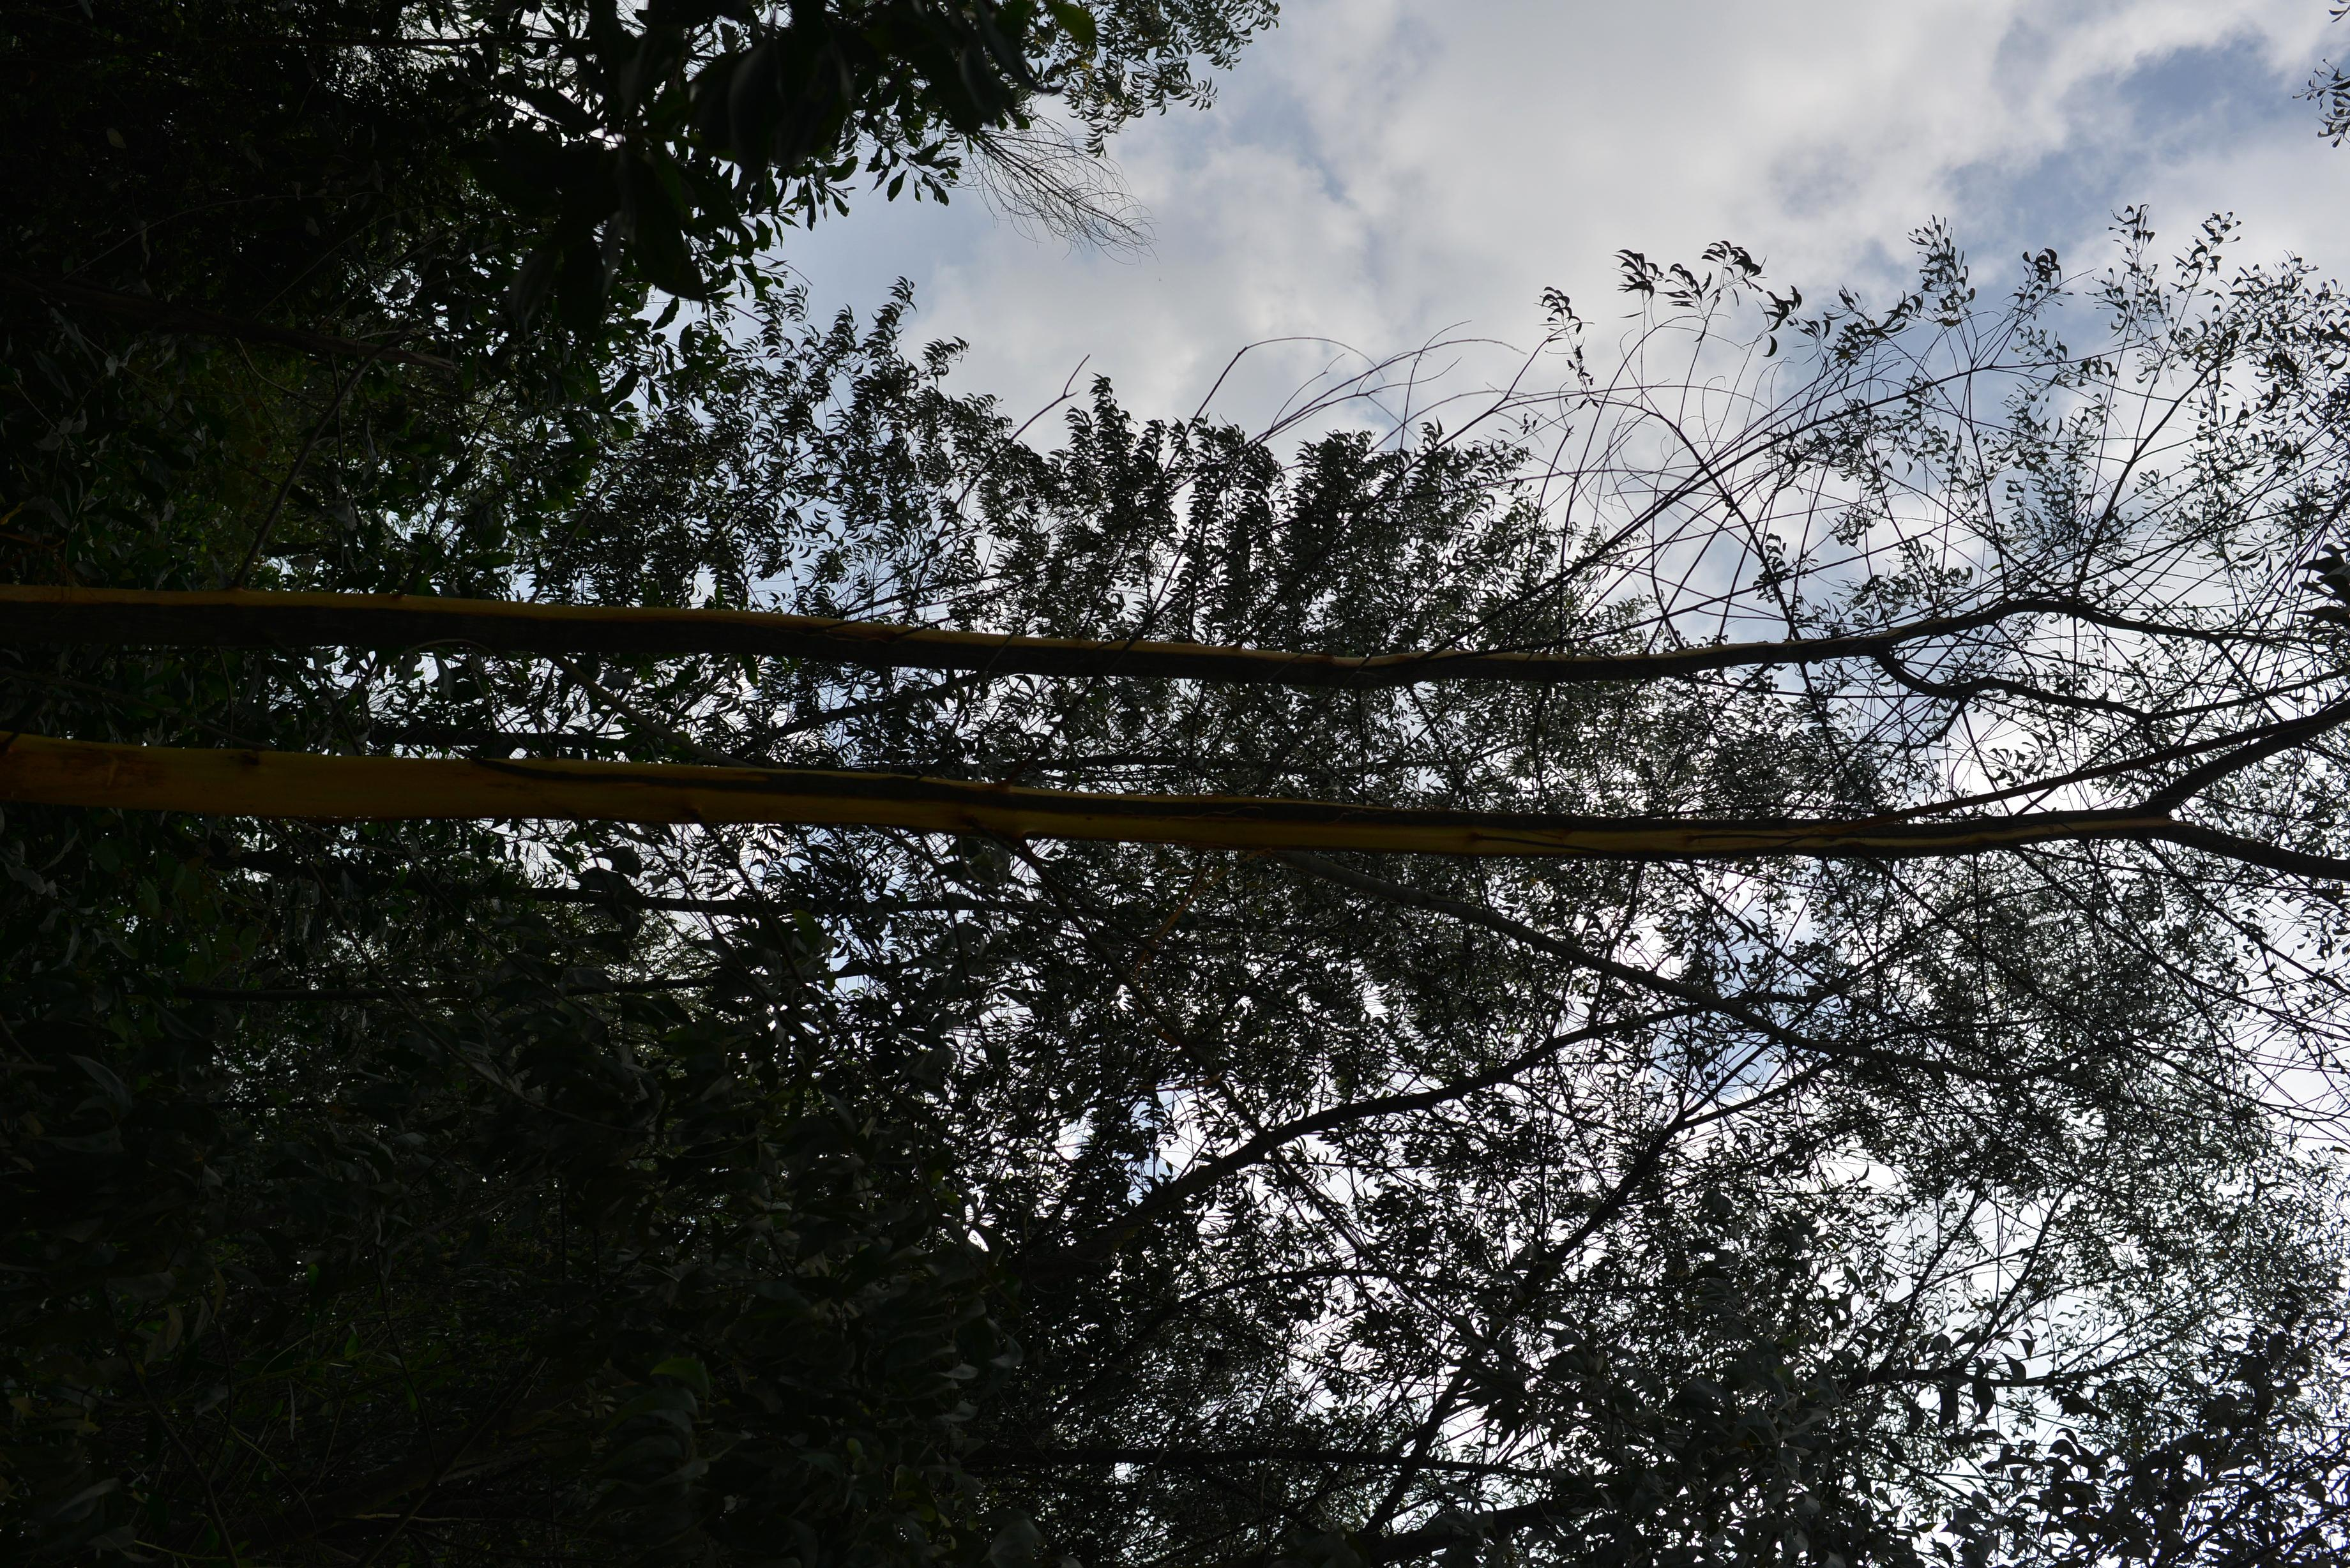Mammals Attack: (0, 731, 2172, 887), (0, 581, 1715, 689)
